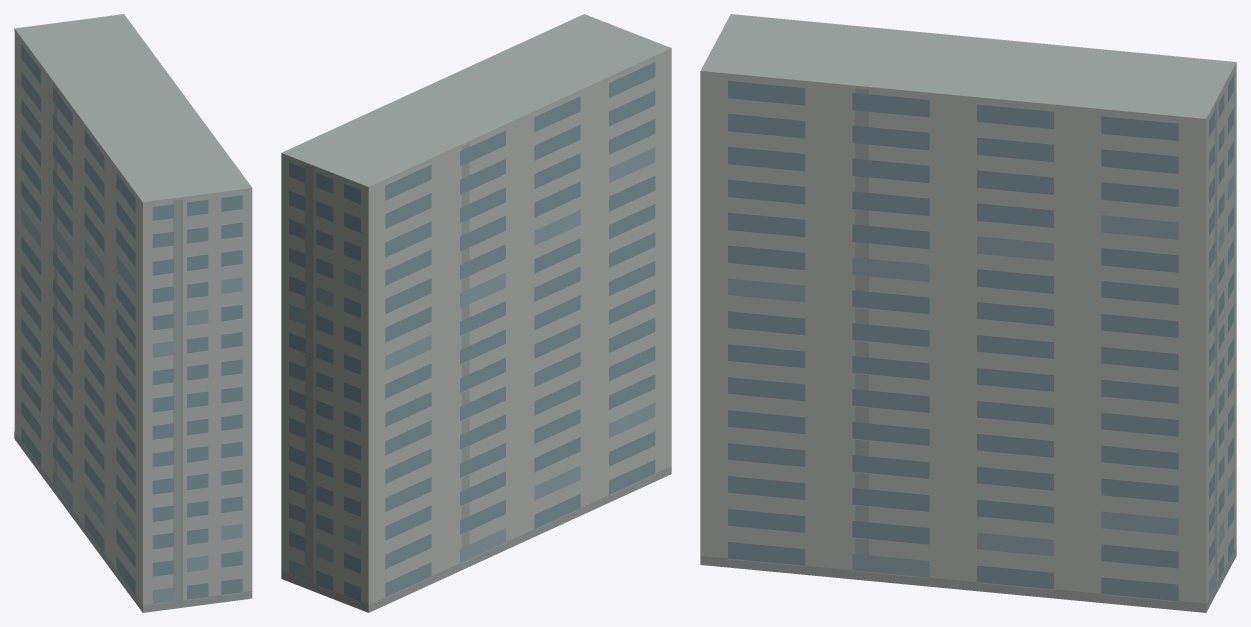
The model's file is residential-3245b09d-4007-43c2-8d59-7fddaa271152.glb.
3 renders of one model, left to right at view 1: azimuth 30°, elevation 25°; view 2: azimuth 150°, elevation 25°; view 3: azimuth 270°, elevation 25°, orthographic. The views are drawn at different scales.
Visible parts, largest first — view 1: residential-3245b09d-4007-43c2-8d59-7fddaa271152.tmp; view 2: residential-3245b09d-4007-43c2-8d59-7fddaa271152.tmp; view 3: residential-3245b09d-4007-43c2-8d59-7fddaa271152.tmp.
Part boxes in pixels (x1,y1,x2,y2): residential-3245b09d-4007-43c2-8d59-7fddaa271152.tmp: (14, 14, 252, 612); residential-3245b09d-4007-43c2-8d59-7fddaa271152.tmp: (281, 14, 671, 612); residential-3245b09d-4007-43c2-8d59-7fddaa271152.tmp: (700, 14, 1236, 612).
Size of the model in its own units: 21.43 by 47 by 46.24.
